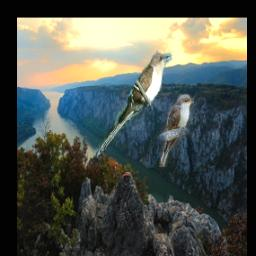Cuckoo: (94, 51, 174, 160), (160, 95, 195, 168)
